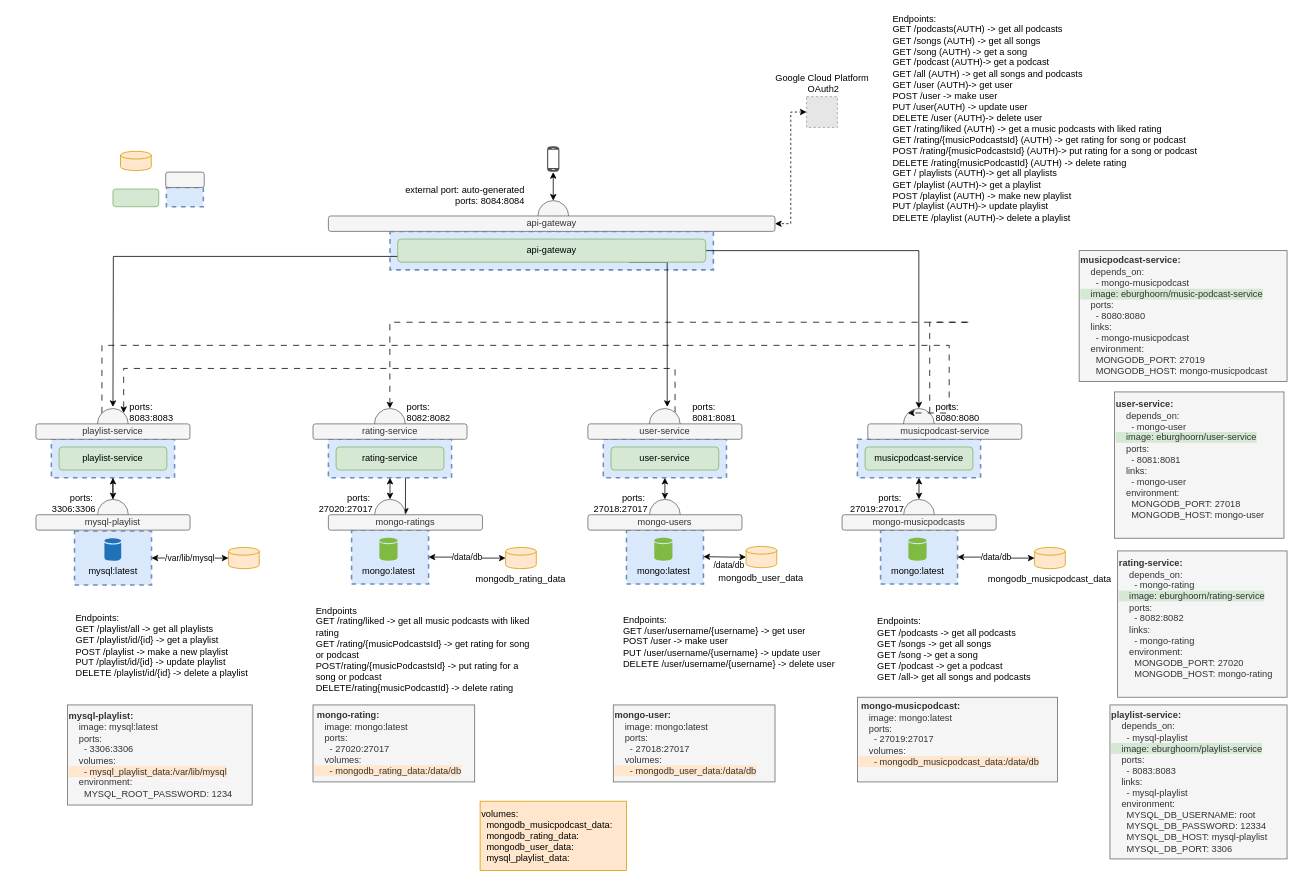
Image size: 1301x884. Some labels were removed from this diagram. Grey dashed boxes stand in for pictures. Each missing label, with the centre of its shape:
container: (135,197)
mysql_playlist_data: (243,558)
POD: (184,196)
service: (184,179)
volume: (135,161)
